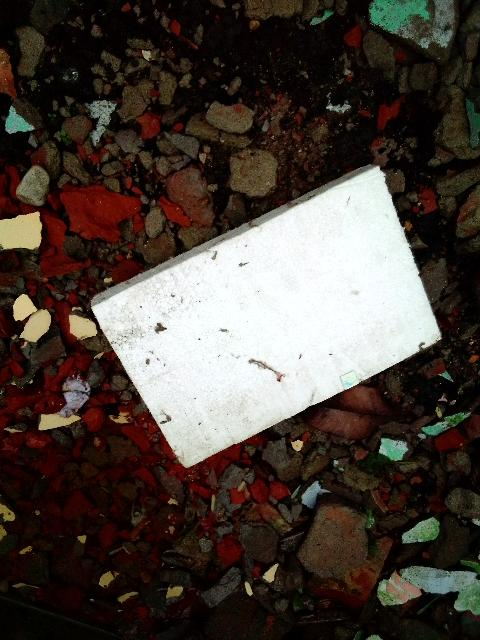cocksheet: (78, 139, 450, 482)
